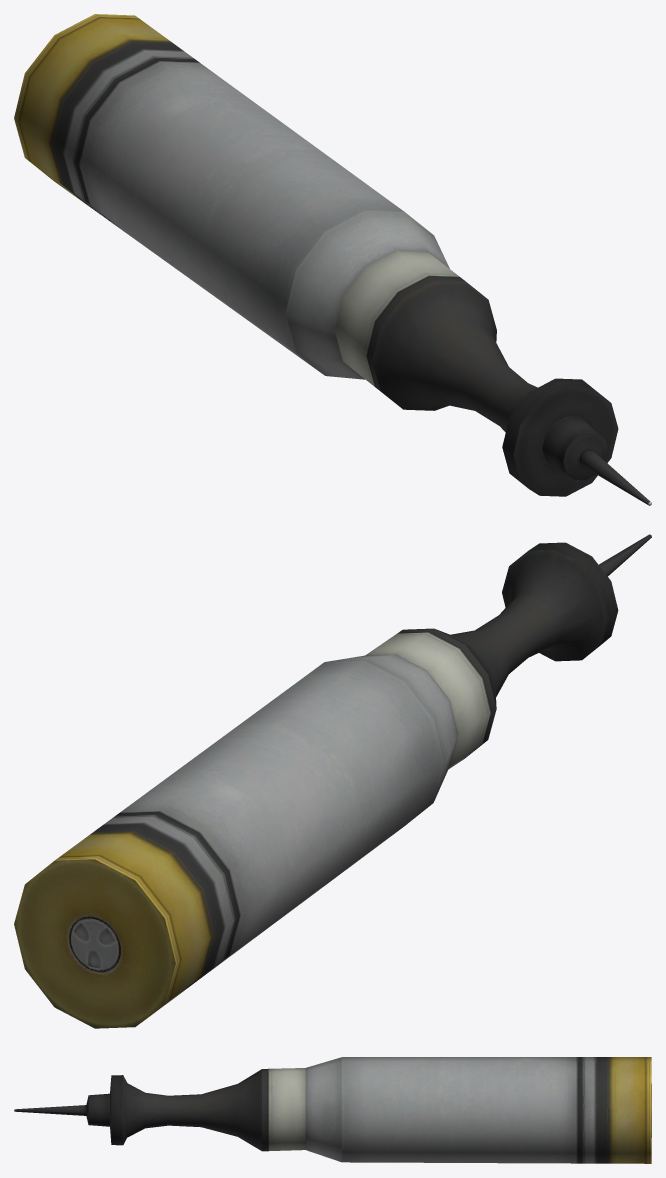
The picture shows the model from 3 angles, top to bottom: view 1: azimuth 30°, elevation 25°; view 2: azimuth 150°, elevation 25°; view 3: azimuth 270°, elevation 25°; orthographic projection. The views are drawn at different scales.
Visible parts, largest first — view 1: AT_02_LOD0; view 2: AT_02_LOD0; view 3: AT_02_LOD0.
Boxes of the visible parts, x1,y1,x2,y2 form: AT_02_LOD0: (14,14,651,505); AT_02_LOD0: (14,534,651,1028); AT_02_LOD0: (14,1057,651,1163).
Size of the model in its own units: 1.71 by 1.71 by 10.16.
